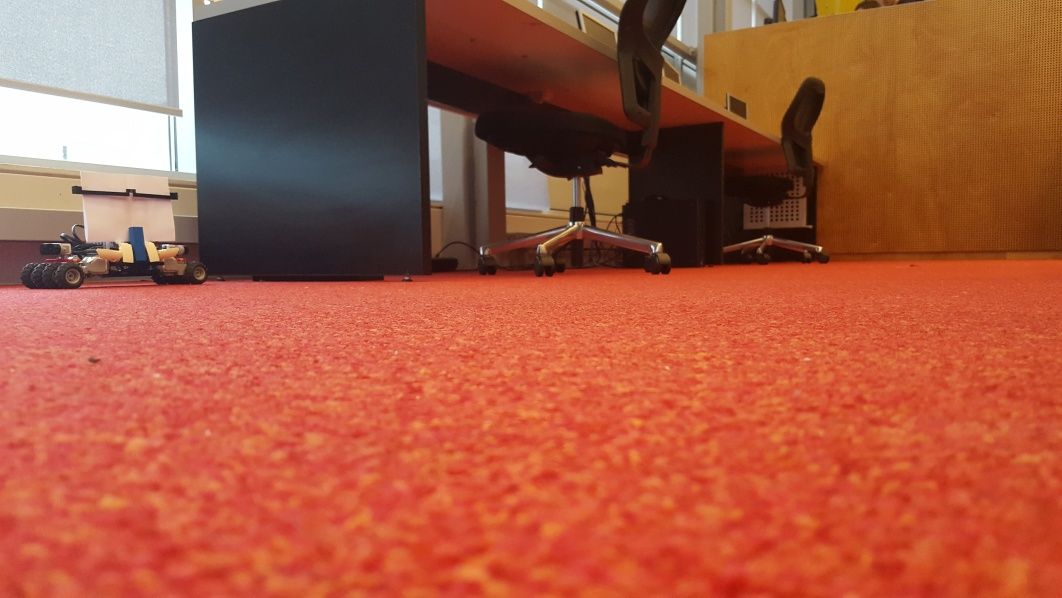car: (19, 166, 208, 288)
